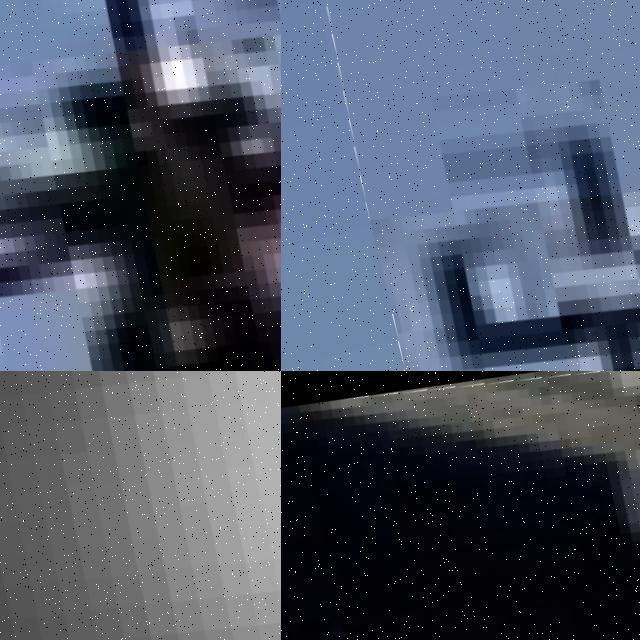drone: (310, 0, 640, 371), (0, 0, 281, 371), (281, 371, 640, 640), (0, 371, 281, 640)
